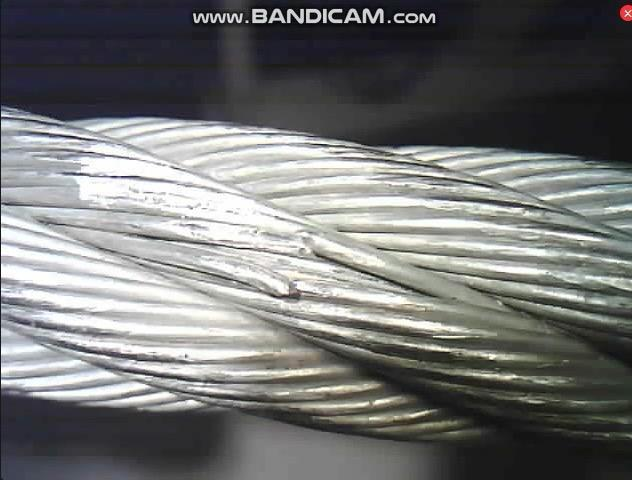break: (268, 216, 331, 304)
